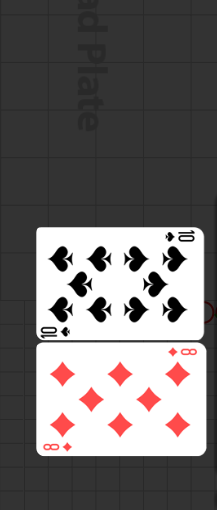10S: (164, 229, 197, 243)
8D: (167, 346, 199, 358)
